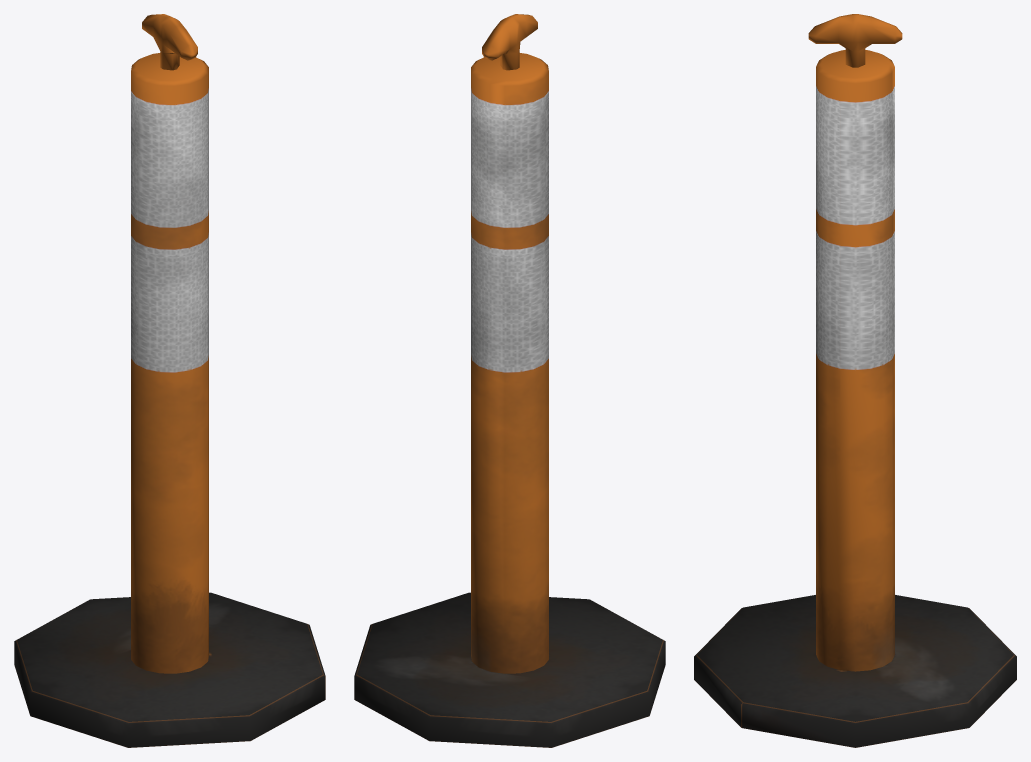
The model's file is o3_paletto_segnaletico.glb.
3 views of the same model, side by side, from view 1: azimuth 30°, elevation 25°; view 2: azimuth 150°, elevation 25°; view 3: azimuth 270°, elevation 25° (orthographic).
Parts seen in each view (by area): view 1: sb_modello; view 2: sb_modello; view 3: sb_modello.
Part boxes in pixels (<box>): sb_modello: <box>14,14,325,747</box>; sb_modello: <box>354,14,665,747</box>; sb_modello: <box>694,14,1016,747</box>.
Bounding box in the file's own units: 0.5061 × 1.15 × 0.5061.
1 material, 1 textured.
